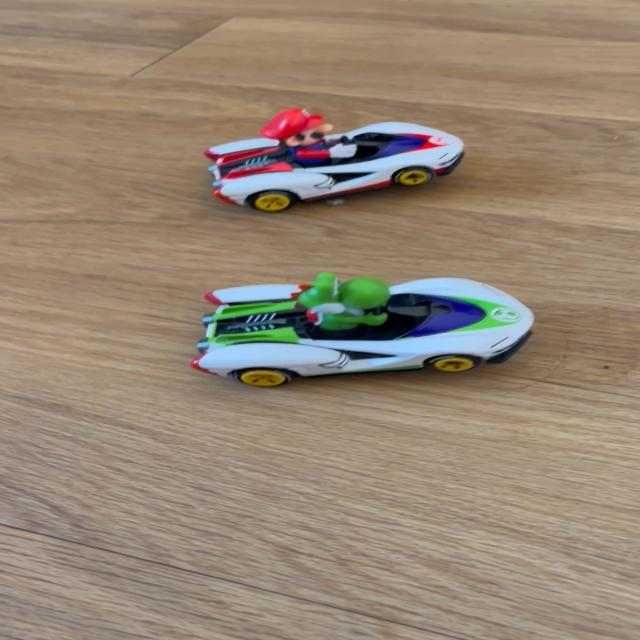mario: (177, 101, 485, 211)
yoshi: (165, 258, 548, 393)
